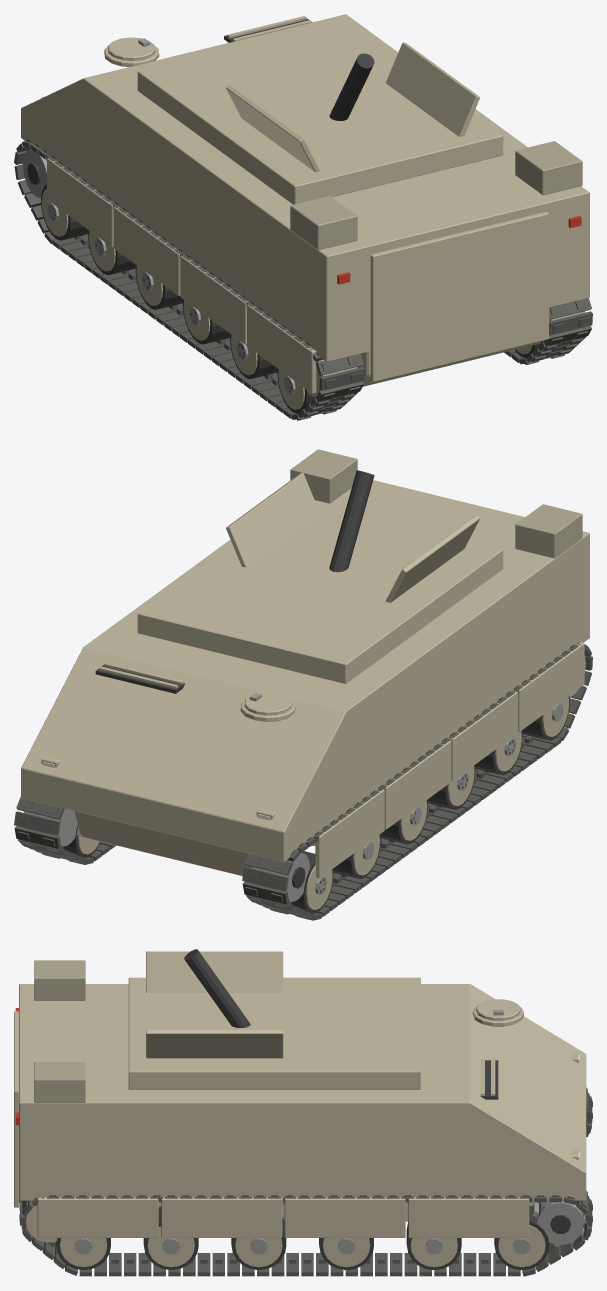
The model's file is usa_mor_1287.glb.
3 views of the same model, one above another, from view 1: azimuth 30°, elevation 25°; view 2: azimuth 150°, elevation 25°; view 3: azimuth 270°, elevation 25° (orthographic). The views are drawn at different scales.
Parts seen in each view (by area): view 1: body, barrel; view 2: body, barrel; view 3: body, barrel.
Boxes of the visible parts, box(x1,y1,x2,y2) form: body: box(14, 14, 592, 420); barrel: box(329, 53, 374, 120); body: box(14, 449, 592, 920); barrel: box(329, 470, 374, 572); body: box(14, 951, 592, 1276); barrel: box(184, 949, 250, 1027).
Bounding box in the file's own units: 3.4 × 3.41 × 6.74.
